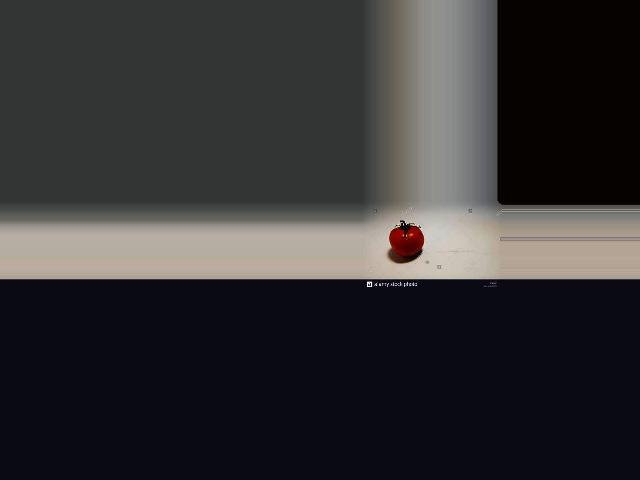tomato: (390, 226, 424, 257)
